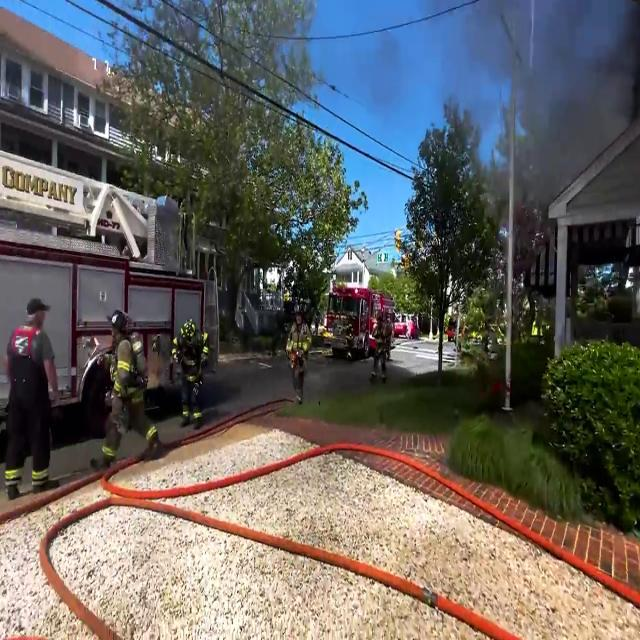Smoke: (473, 6, 640, 239)
